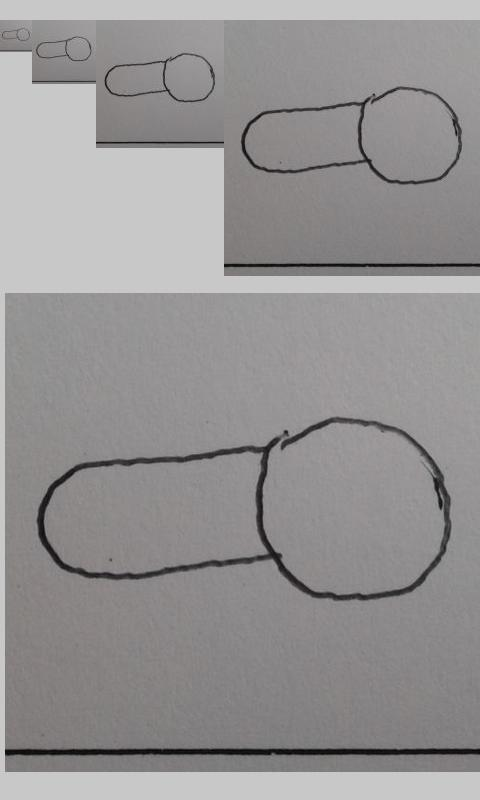switch: (37, 415, 454, 602), (241, 86, 463, 185), (104, 53, 217, 103), (35, 36, 92, 62), (1, 27, 31, 42)
